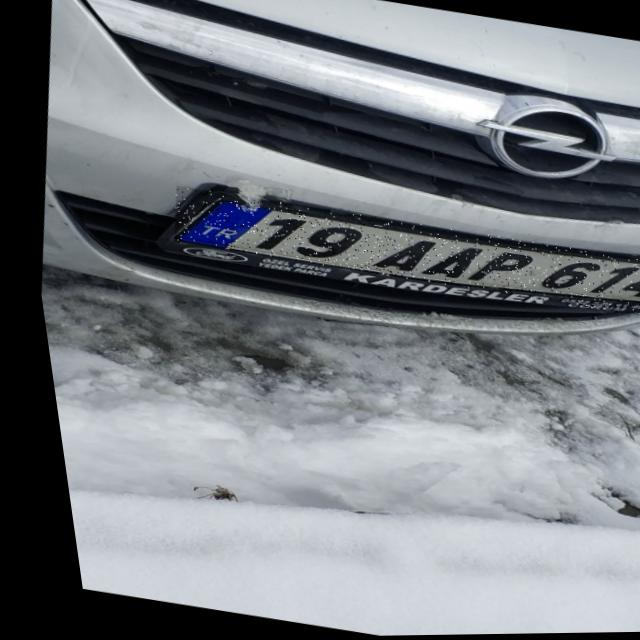license_plate: (160, 180, 640, 330)
